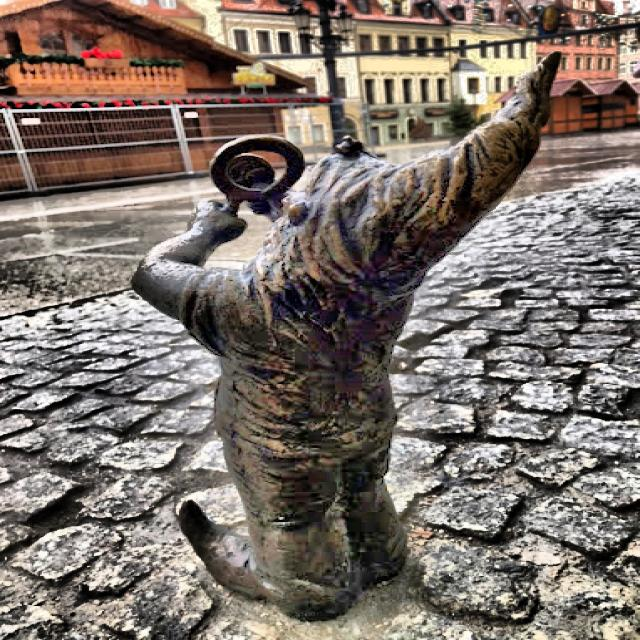Kolekcjoner: (134, 55, 557, 619)
